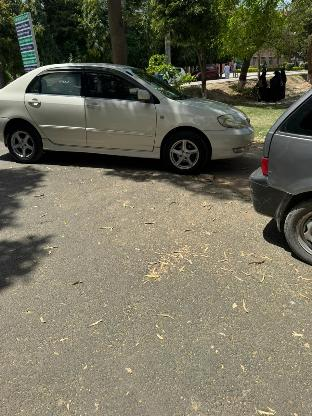car: (0, 52, 257, 180)
